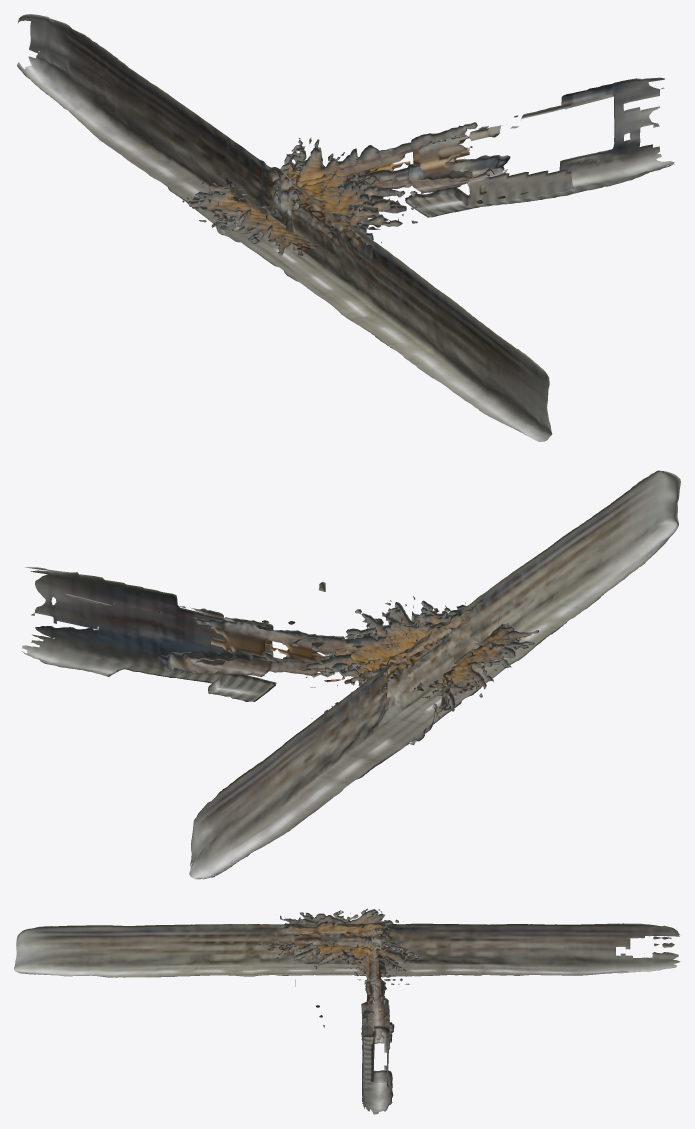
The model's file is run01_collider_mesh.glb.
The picture shows the model from 3 angles, top to bottom: view 1: azimuth 30°, elevation 25°; view 2: azimuth 150°, elevation 25°; view 3: azimuth 270°, elevation 25°; orthographic projection. The views are drawn at different scales.
Parts seen in each view (by area): view 1: world; view 2: world; view 3: world.
Boxes of the visible parts, left/top/right/bottom form: world: left=17, top=14, right=674, bottom=441; world: left=22, top=470, right=680, bottom=879; world: left=14, top=908, right=680, bottom=1114.
Size of the model in its own units: 24.41 by 4.41 by 44.43.
